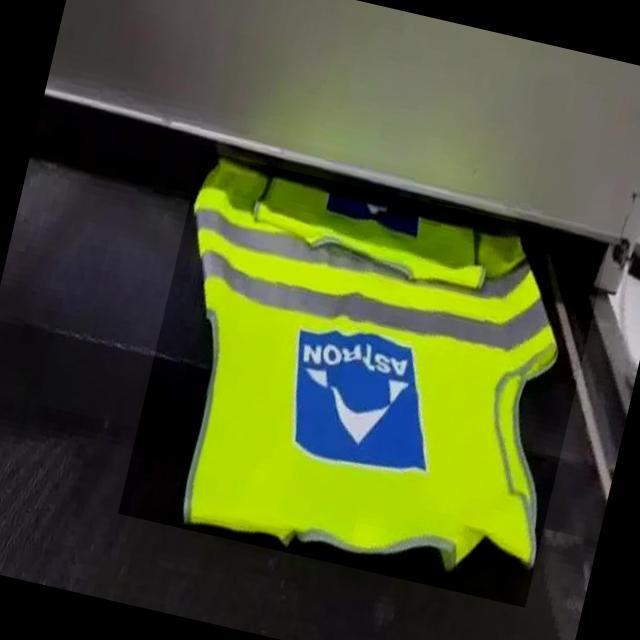Safety Vest: (118, 151, 609, 608)
